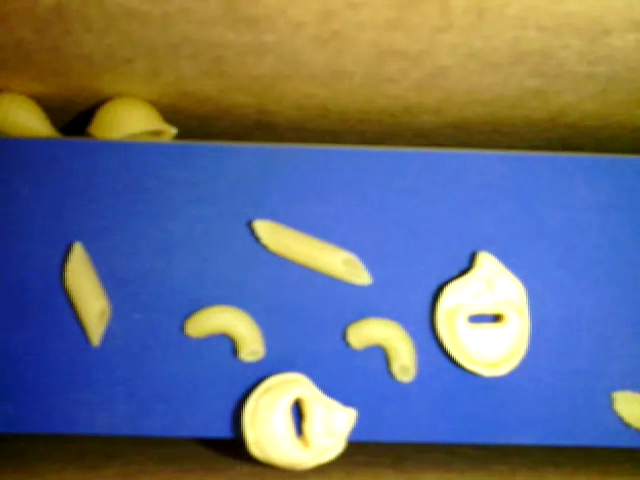elbow: (183, 302, 265, 365), (345, 317, 415, 384)
penne: (251, 218, 376, 289), (61, 239, 109, 348), (611, 393, 639, 427)
shell: (80, 95, 178, 144), (1, 88, 65, 143)
tortellini: (434, 251, 530, 379), (242, 370, 356, 469)
